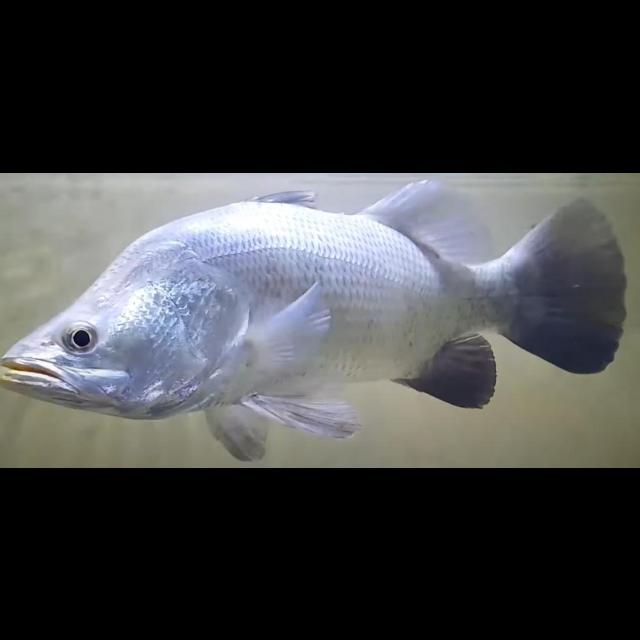Seabass: (3, 176, 629, 462)
